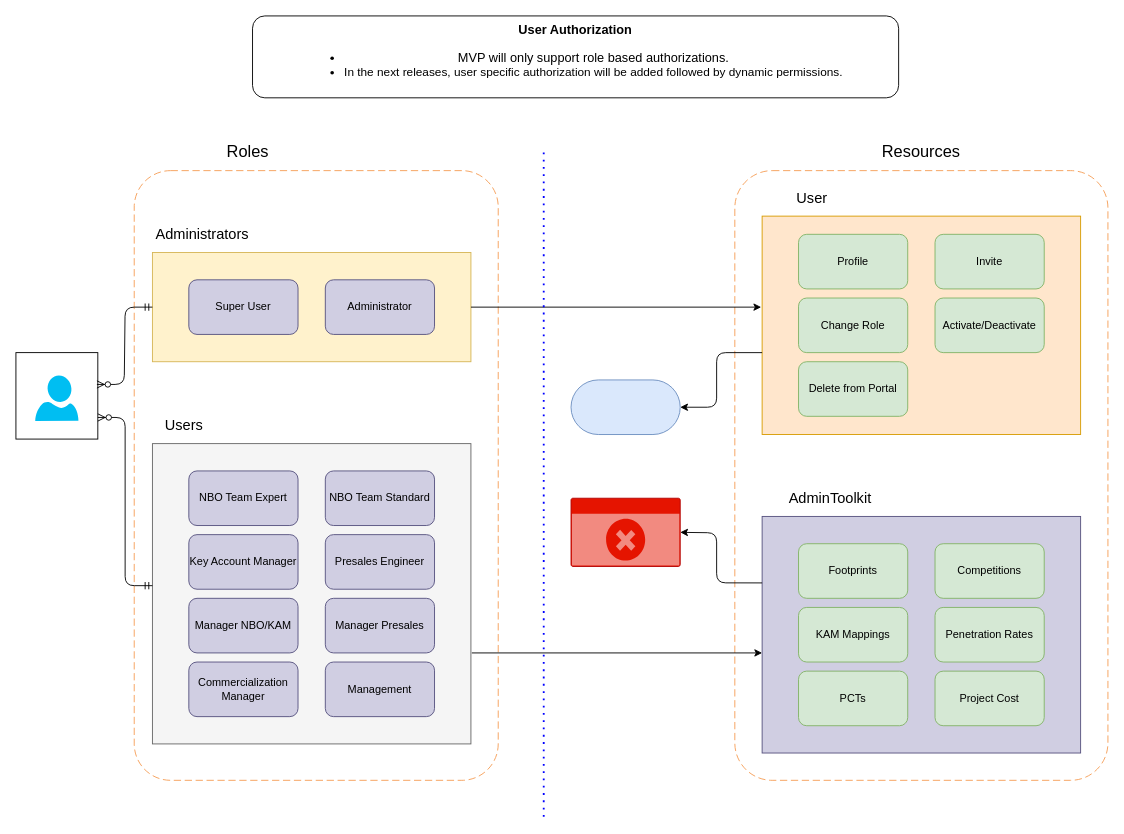
Image size: 1124x834. Some labels were removed from this diagram. Here are the shapes that lost their labels. From the top down, the centre of each, then its label:
At (x=625, y=407): "Success".
At (x=625, y=531): "Forbidden".
